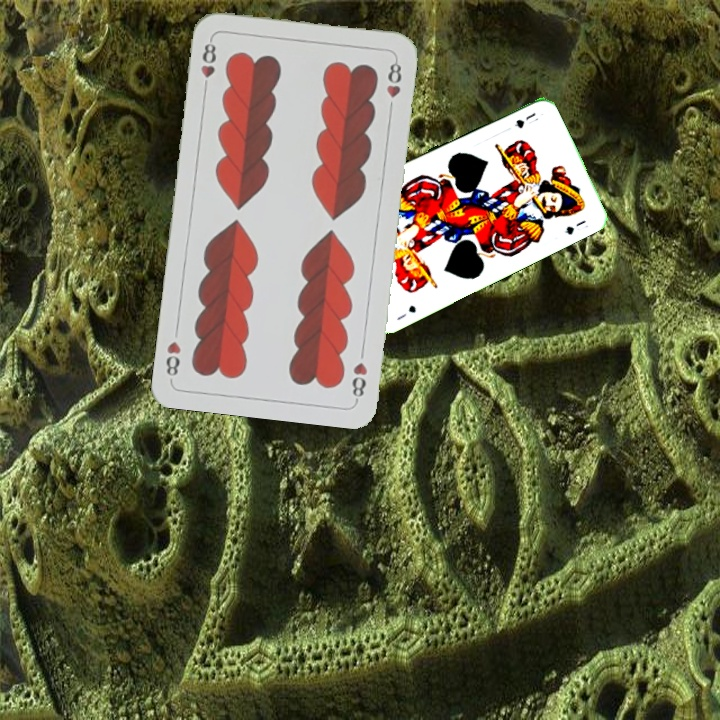GU: (510, 108, 538, 130), (392, 301, 419, 323)
H8: (197, 35, 219, 94), (348, 358, 370, 403)
